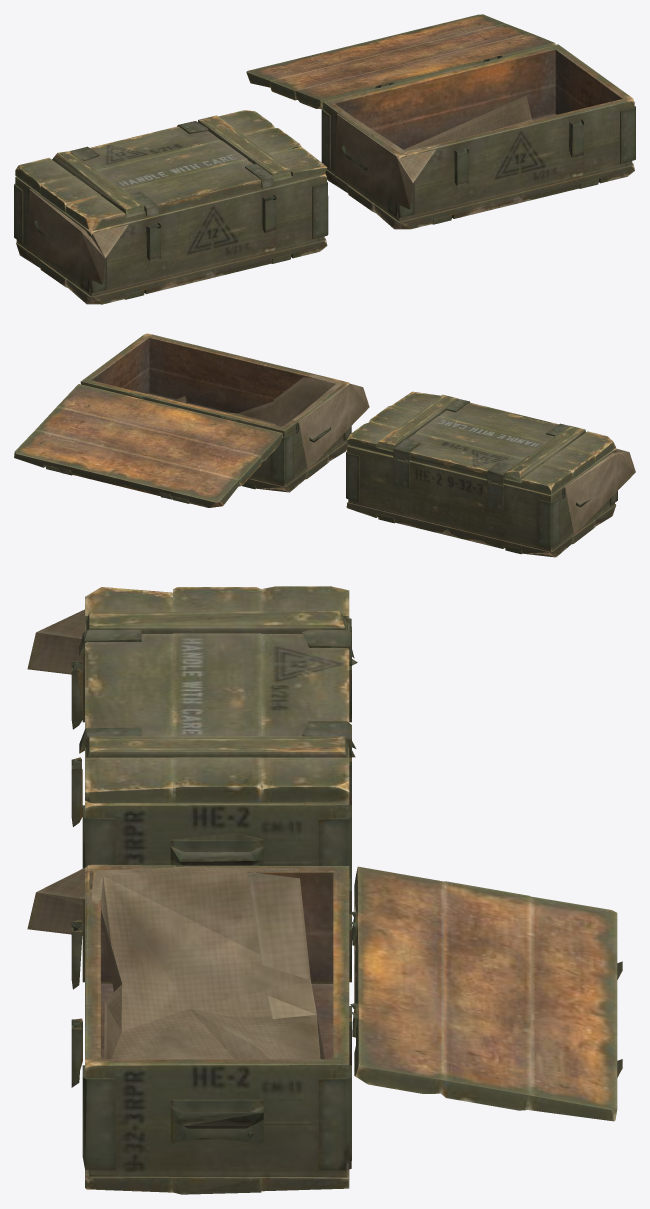
The model's file is old_military_crate.glb.
3 renders of one model, top to bottom at view 1: azimuth 30°, elevation 25°; view 2: azimuth 150°, elevation 25°; view 3: azimuth 270°, elevation 25°, orthographic. The views are drawn at different scales.
Parts seen in each view (by area): view 1: old_military_crate_lid_a; view 2: old_military_crate_lid_a; view 3: old_military_crate_lid_a.
Boxes of the visible parts, x1,y1,x2,y2 form: old_military_crate_lid_a: [14, 14, 635, 304]; old_military_crate_lid_a: [14, 333, 635, 557]; old_military_crate_lid_a: [27, 586, 622, 1194].
Size of the model in its own units: 1.81 by 0.2937 by 0.9678.
1 material, 1 textured.
